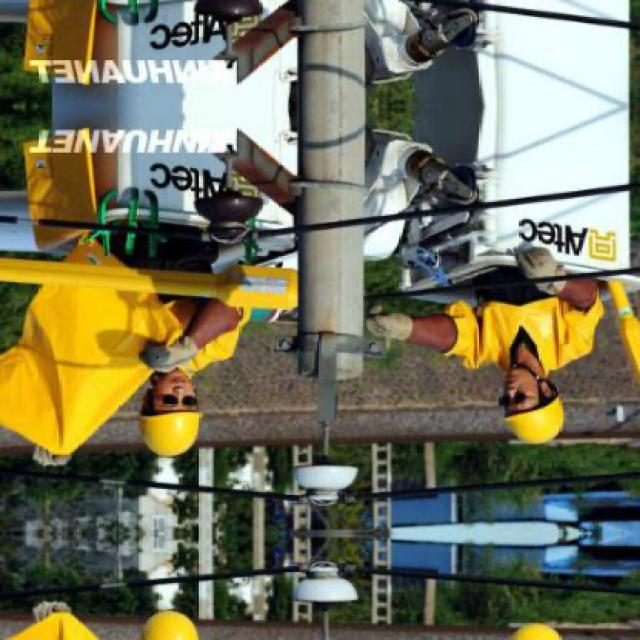con casco: (476, 364, 586, 446), (124, 389, 243, 462)
